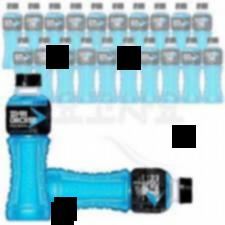powerade_mountainblast: (43, 164, 197, 216), (5, 72, 54, 222)
